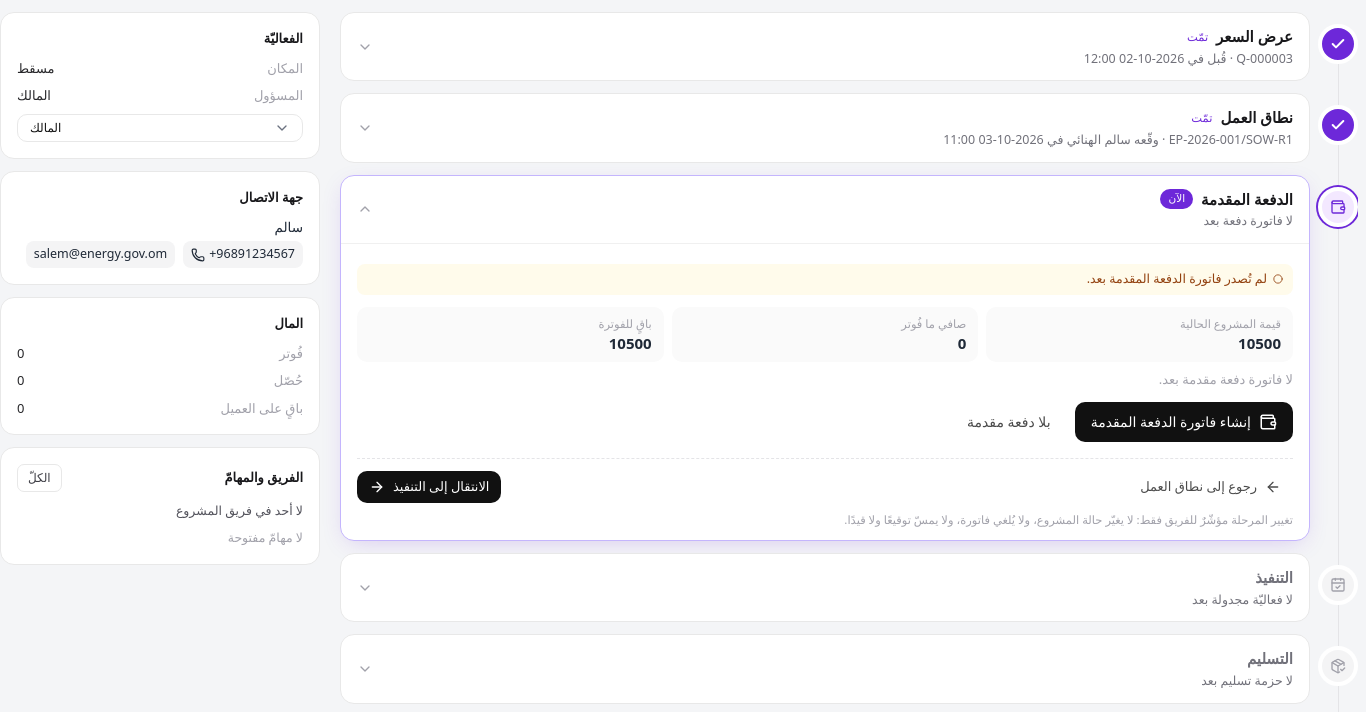
the project path › opens on the stage the team stands on, with the acceptance evidence one click away
The width and height of the screenshot is (1366, 712).
Expected: the button "إنشاء فاتورة الدفعة المقدمة" is shown, [1075,402,1293,442]
Expected: the button "الانتقال إلى التنفيذ" is enabled, [357,471,502,503]
Click the button "التنفيذ لا فعاليّة مجدولة بعد" at (1274, 577), box [341,554,1309,621]
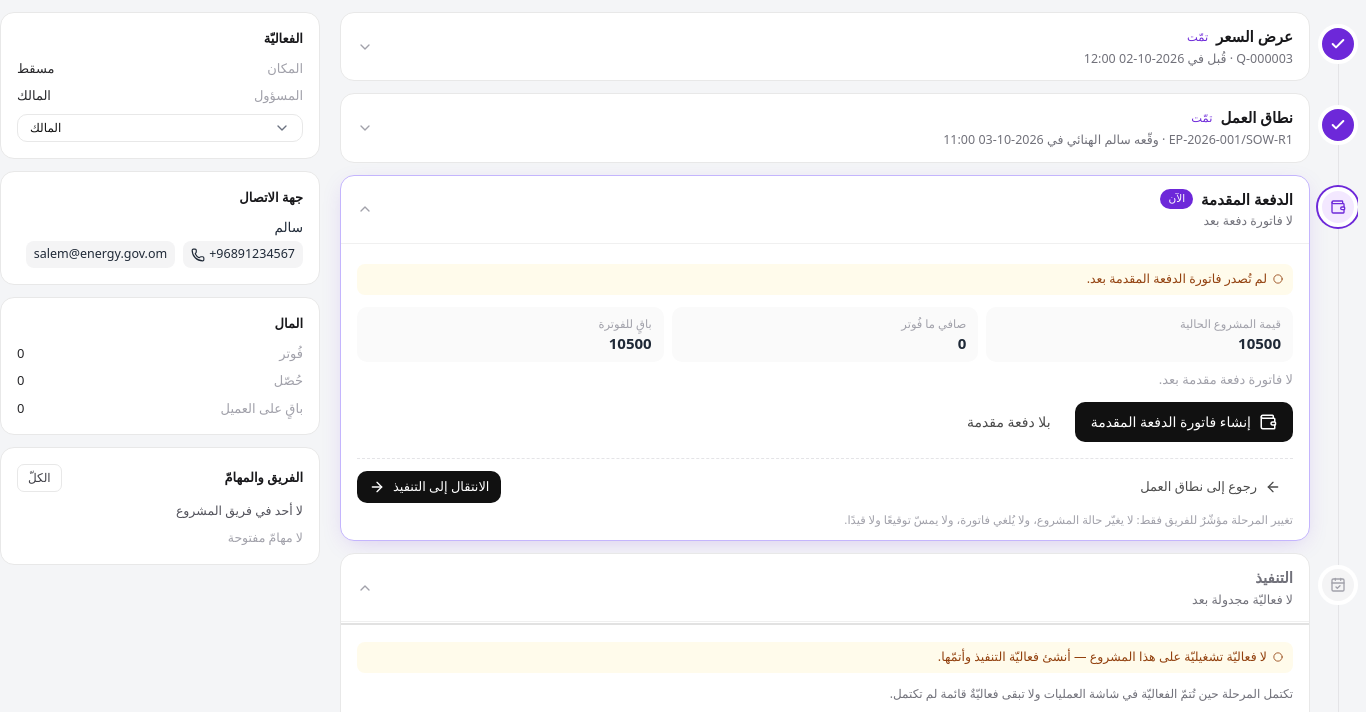
Expected: the list item "لا فعاليّة تشغيليّة على هذا المشروع" is shown, [938,648,1267,665]
Click the button "عرض السعر تمّت Q-000003 · قُبل في 2026-10-02 12:00" at (1255, 36), box [341,13,1309,80]
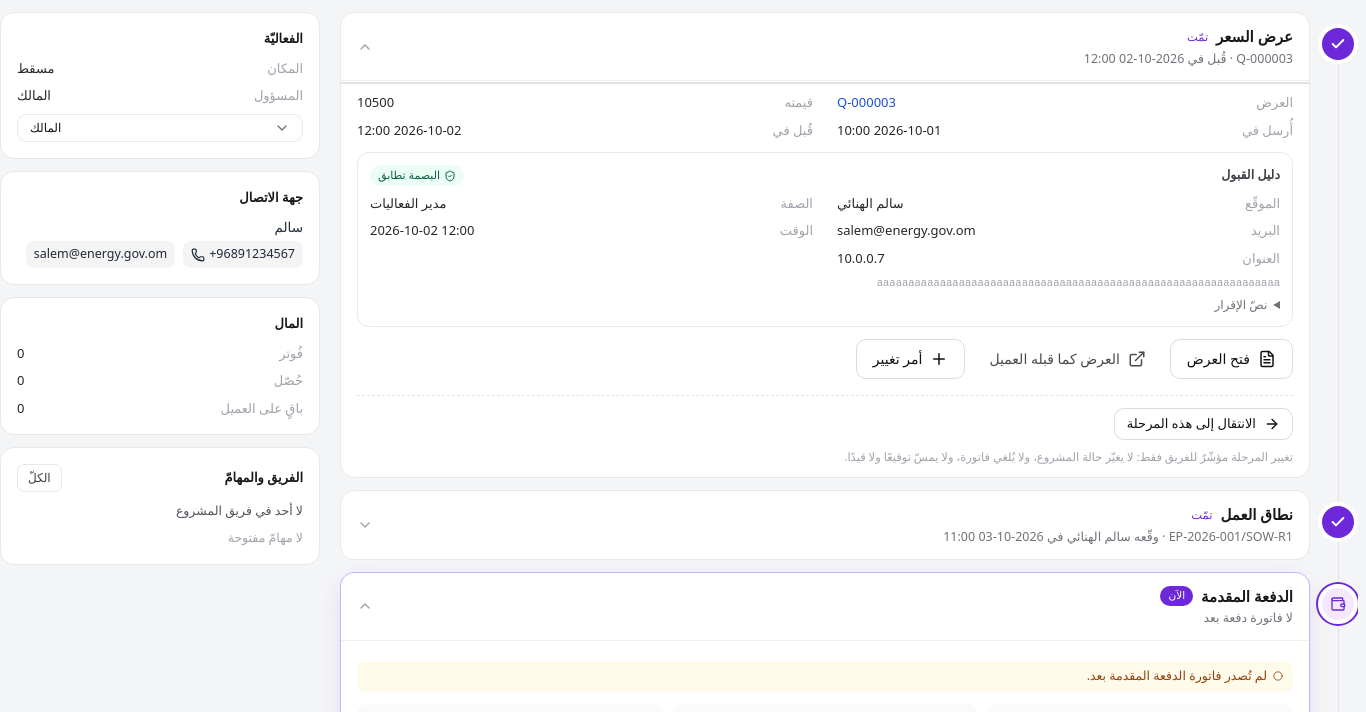
Expected: the text "دليل القبول" is shown, [1221,166,1280,185]
Expected: the text "10.0.0.7" is shown, [837,249,885,267]
